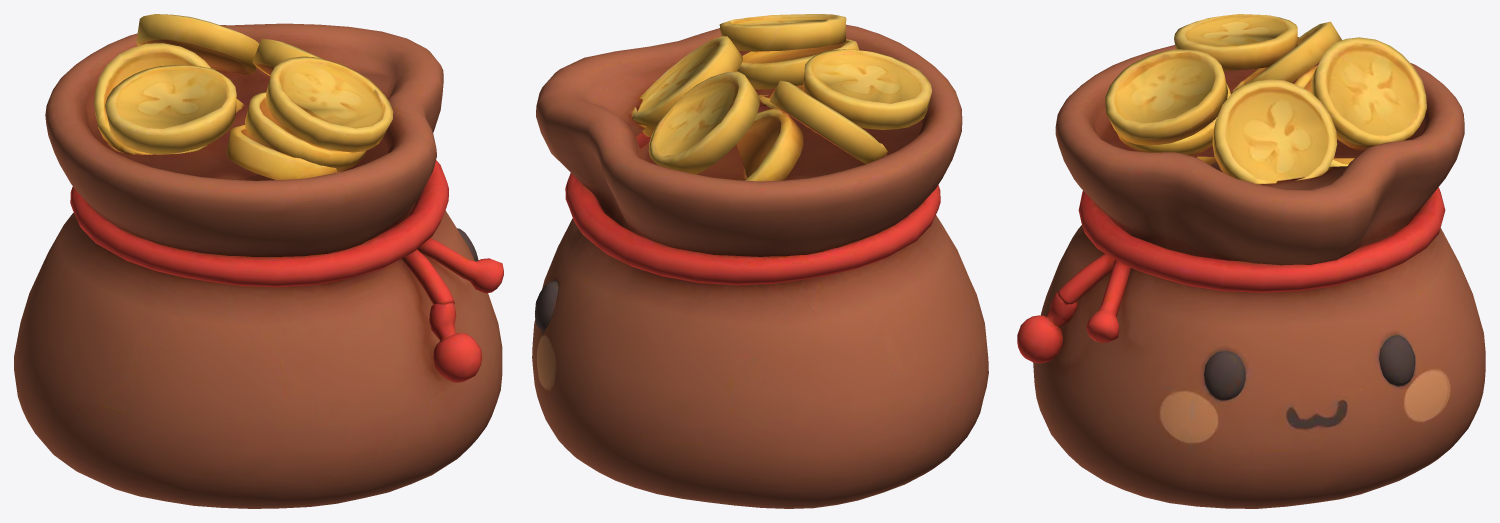
Rendered from coin-pouch.glb.
3 renders of one model, left to right at view 1: azimuth 30°, elevation 25°; view 2: azimuth 150°, elevation 25°; view 3: azimuth 270°, elevation 25°, orthographic. The views are drawn at different scales.
Parts seen in each view (by area): view 1: tripo_node_bd971b55-3f07-4c86-a7ff-7e9079880dba; view 2: tripo_node_bd971b55-3f07-4c86-a7ff-7e9079880dba; view 3: tripo_node_bd971b55-3f07-4c86-a7ff-7e9079880dba.
Boxes of the visible parts, <box> form: tripo_node_bd971b55-3f07-4c86-a7ff-7e9079880dba: <box>14,14,503,508</box>; tripo_node_bd971b55-3f07-4c86-a7ff-7e9079880dba: <box>532,14,988,508</box>; tripo_node_bd971b55-3f07-4c86-a7ff-7e9079880dba: <box>1017,14,1485,508</box>.
Size of the model in its own units: 0.9747 by 0.8847 by 0.998.
1 material, 1 textured.
